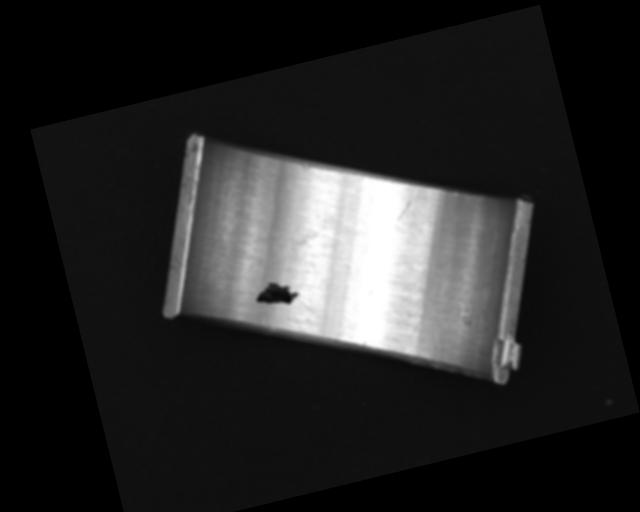blot: (263, 229, 326, 273), (251, 275, 302, 314)
bruise: (300, 161, 309, 171), (360, 338, 369, 347)
nick: (389, 183, 425, 221)
